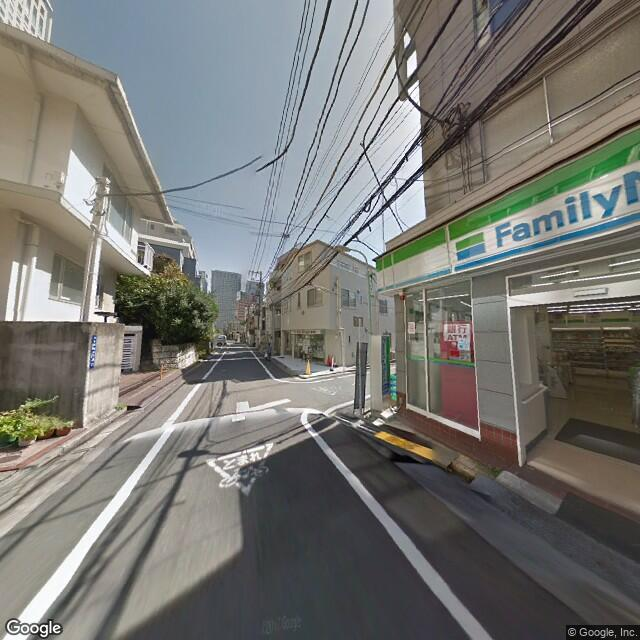family_mart: (376, 120, 639, 295)
